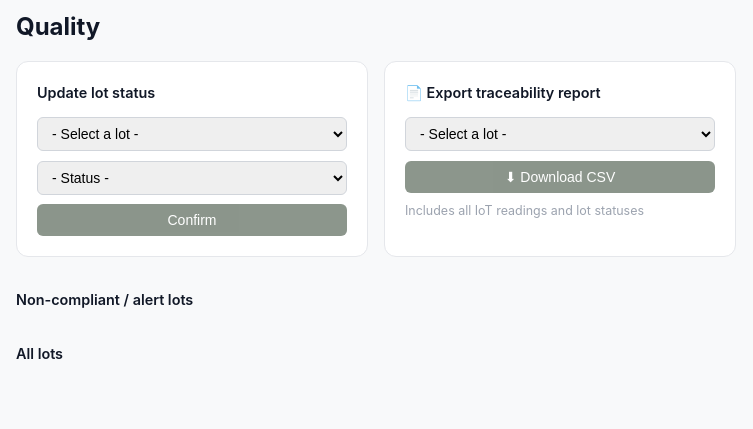
Test case: QualityView › shows a success message with the status name after updating
Select "ABC123 (stored)" in the 1st dropdown at (192, 134), box [37, 117, 347, 151]
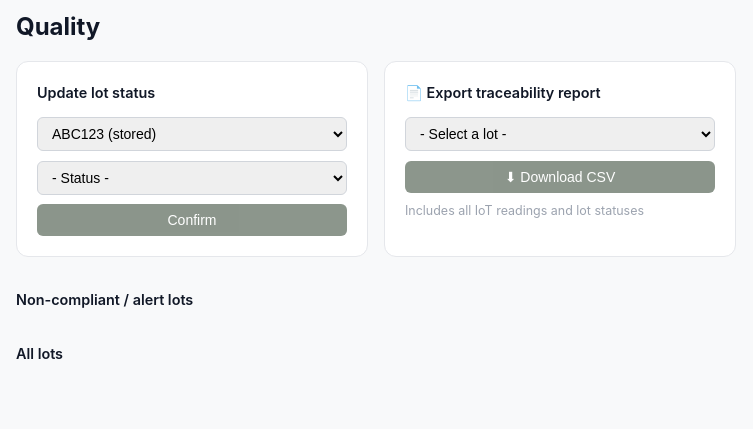
Select "Compliant" in the 3rd dropdown at (192, 178), box [37, 161, 347, 195]
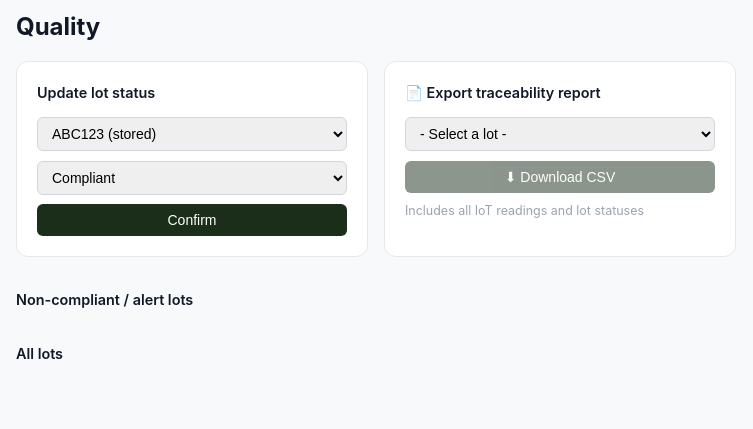
Click the button "Confirm" at (192, 220), box [37, 204, 347, 236]
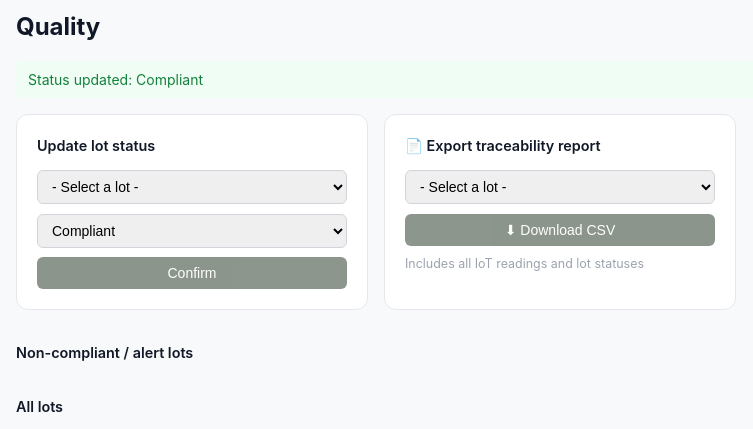
expect the text with class "success" reads "Status updated: Compliant": met, box [28, 71, 203, 88]
